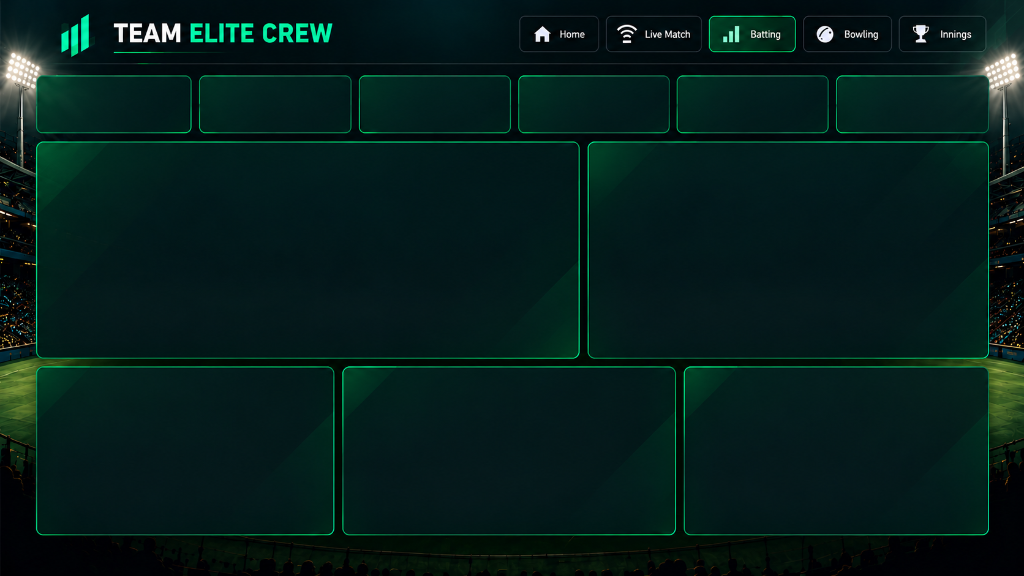

Layout of this report page (visuals, bound fields, positions):
{"tool":"powerbi","page":{"name":"Page 3","canvas":[1920,1080],"ordinal":2},"visuals":[{"type":"kpi","fields":{"Goal":["Sum(public v_live_match_summary.current_wickets)","Sum(public v_live_match_summary.current_overs)"],"Indicator":["Sum(public v_live_match_summary.current_runs)"]},"box":[63.8,140,587.5,280],"z":0},{"type":"tableEx","fields":{"Values":["public v_current_batting_scorecard.player_name","Sum(public v_current_batting_scorecard.runs)","Sum(public v_current_batting_scorecard.balls_faced)","Sum(public v_current_batting_scorecard.fours)","Sum(public v_current_batting_scorecard.sixes)","Sum(public v_current_batting_scorecard.strike_rate)","public v_current_batting_scorecard.dismissal_info"]},"box":[50,443.3,910,292.2],"z":2000},{"type":"tableEx","fields":{"Values":["public v_current_bowling_scorecard.player_name","Sum(public v_current_bowling_scorecard.overs_bowled)","Sum(public v_current_bowling_scorecard.maidens)","Sum(public v_current_bowling_scorecard.runs_conceded)","Sum(public v_current_bowling_scorecard.wickets)"]},"box":[960,443.8,910,292.2],"z":3000},{"type":"lineChart","fields":{"Category":["public v_worm_comparison.overs"],"Y":["Sum(public v_worm_comparison.runs)"]},"box":[50,745,947.5,292.5],"z":4000},{"type":"clusteredColumnChart","fields":{"Category":["public v_match_innings_summary.innings_name"],"Y":["Sum(public v_match_innings_summary.extras_leg_byes)","Sum(public v_match_innings_summary.extras_byes)","Sum(public v_match_innings_summary.extras_no_balls)","Sum(public v_match_innings_summary.extras_total)","Sum(public v_match_innings_summary.extras_wides)"]},"box":[1030,745.7,840,292.9],"z":5000},{"type":"kpi","fields":{"Indicator":["Sum(public v_live_match_summary.current_runs)"]},"box":[1244,140,295,123],"z":5001},{"type":"tableEx","fields":{"Values":["public v_live_match_summary.data_provenance_badge"]},"box":[685,141.2,528.8,278.8],"z":5002},{"type":"kpi","fields":{"Indicator":["Sum(public v_live_match_summary.current_run_rate)"]},"box":[1563.8,141.2,306.2,121.2],"z":5003},{"type":"kpi","fields":{"Indicator":["Sum(public v_live_match_summary.target_runs)"]},"box":[1243.8,288.8,183.8,131.2],"z":5004},{"type":"kpi","fields":{"Indicator":["Sum(public v_live_match_summary.required_run_rate)"]},"box":[1450,290,192.5,131.2],"z":5005},{"type":"kpi","fields":{"TrendLine":["public v_live_match_summary.current_status_summary"]},"box":[1665,291.2,205,138.8],"z":5006}]}

Visuals, with their boxes in screenshot pixels (x1, y1, x2, y2), scaled from the page's 1920x1080 canvas onto the 1024x576 screenshot:
kpi - Sum(public v_live_match_summary.current_wickets) x Sum(public v_live_match_summary.current_overs): BBox(34, 75, 347, 224)
tableEx - public v_current_batting_scorecard.player_name x Sum(public v_current_batting_scorecard.runs): BBox(27, 236, 512, 392)
tableEx - public v_current_bowling_scorecard.player_name x Sum(public v_current_bowling_scorecard.overs_bowled): BBox(512, 237, 997, 393)
lineChart - public v_worm_comparison.overs x Sum(public v_worm_comparison.runs): BBox(27, 397, 532, 553)
clusteredColumnChart - public v_match_innings_summary.innings_name x Sum(public v_match_innings_summary.extras_leg_byes): BBox(549, 398, 997, 554)
kpi - Sum(public v_live_match_summary.current_runs): BBox(663, 75, 821, 140)
tableEx - public v_live_match_summary.data_provenance_badge: BBox(365, 75, 647, 224)
kpi - Sum(public v_live_match_summary.current_run_rate): BBox(834, 75, 997, 140)
kpi - Sum(public v_live_match_summary.target_runs): BBox(663, 154, 761, 224)
kpi - Sum(public v_live_match_summary.required_run_rate): BBox(773, 155, 876, 225)
kpi - public v_live_match_summary.current_status_summary: BBox(888, 155, 997, 229)
